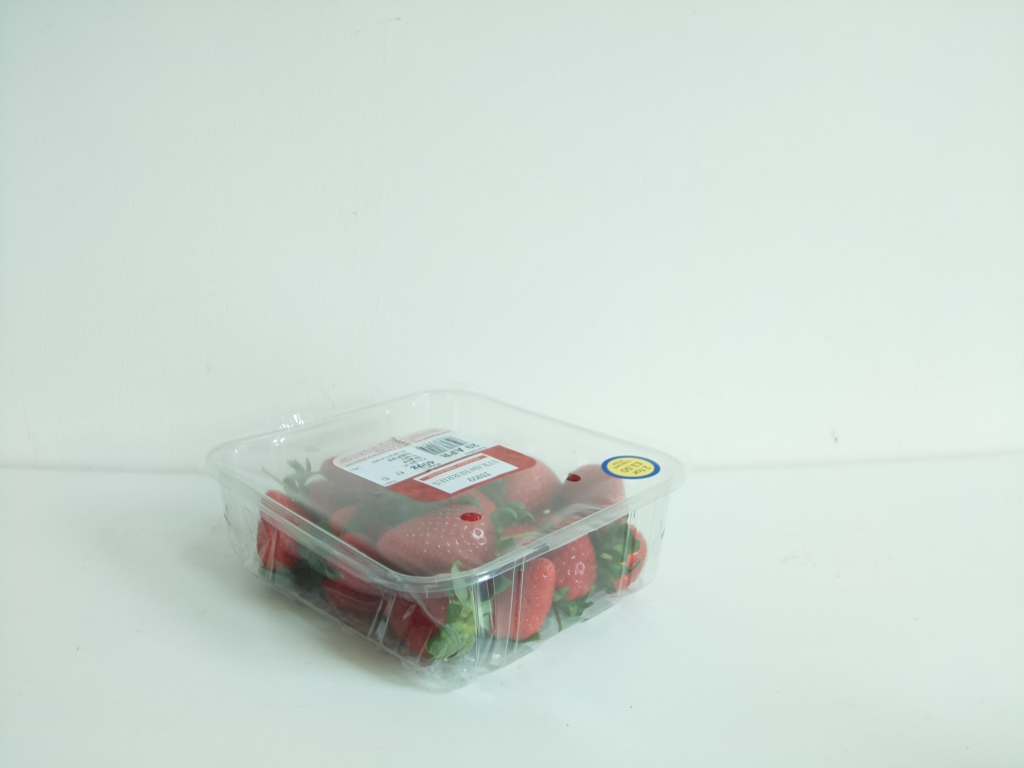soft-fruit: (201, 384, 694, 691)
